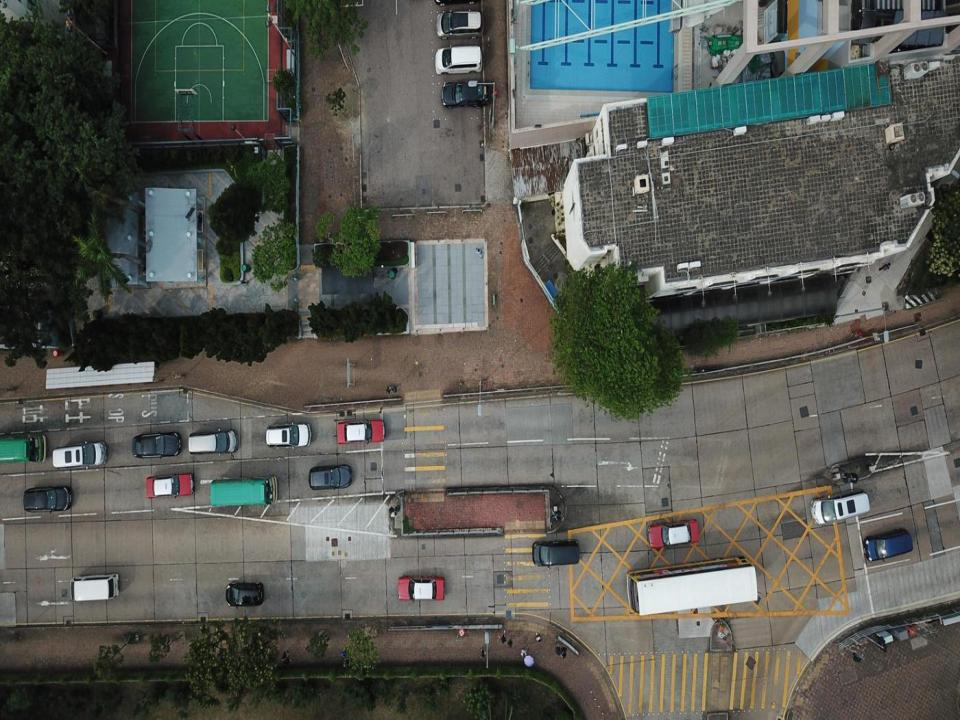bus: (626, 557, 760, 613), (209, 476, 279, 508)
car: (864, 528, 914, 561), (646, 520, 700, 548), (24, 484, 74, 514), (132, 431, 182, 460), (442, 80, 493, 107), (145, 473, 194, 499), (336, 419, 386, 444), (396, 576, 445, 601), (265, 422, 310, 449), (308, 465, 356, 487), (225, 582, 265, 606)
van: (811, 492, 870, 524), (52, 440, 106, 470), (530, 540, 582, 569), (435, 9, 482, 38), (187, 429, 238, 455), (433, 46, 482, 73), (70, 575, 120, 601)
